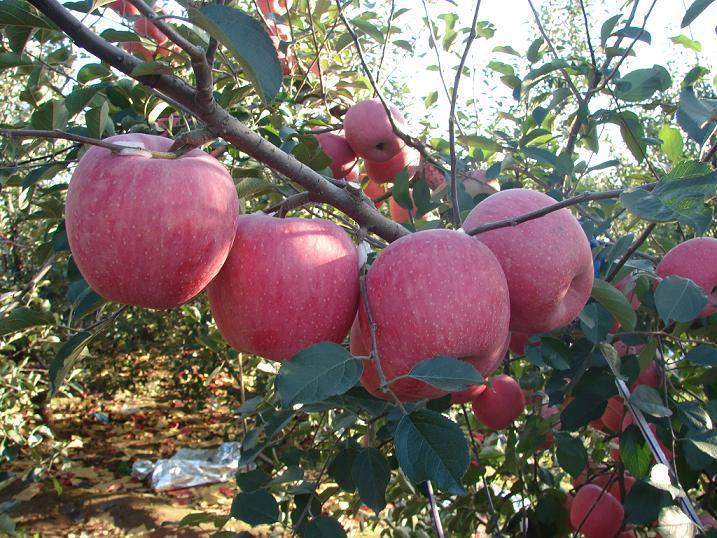apple: (64, 133, 241, 306), (352, 226, 513, 408), (206, 211, 363, 361), (462, 189, 593, 343), (650, 235, 717, 321), (340, 97, 407, 161), (564, 484, 625, 538), (472, 373, 525, 428)
